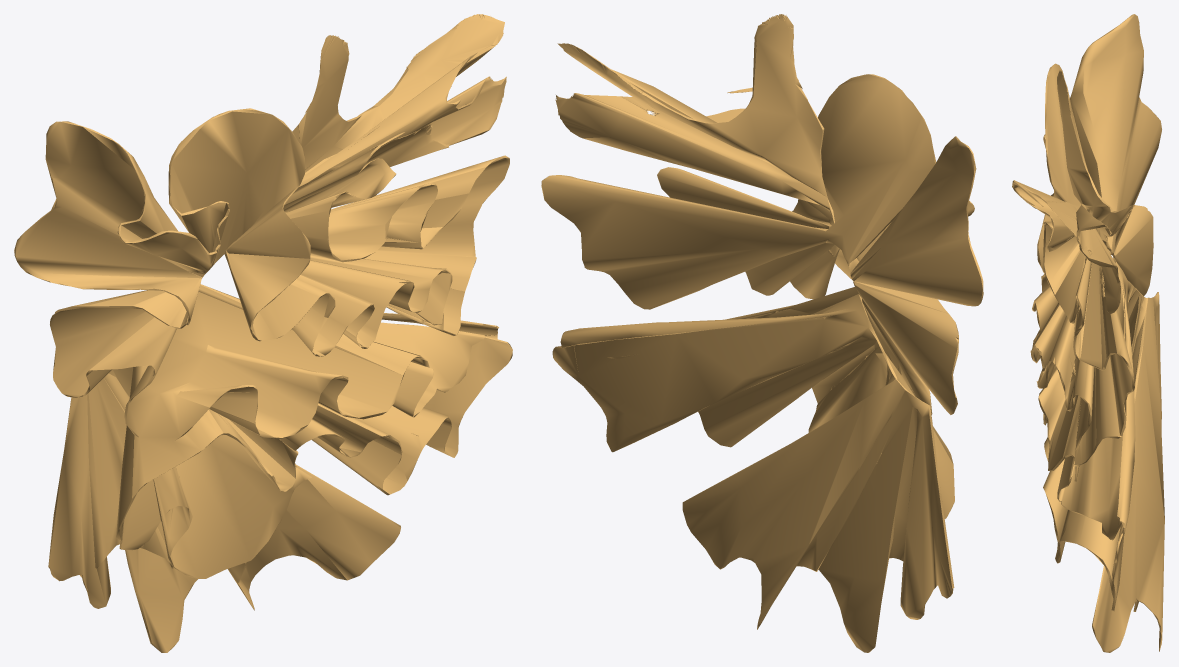
The model's file is mesenterio.glb.
3 views of the same model, side by side, from view 1: azimuth 30°, elevation 25°; view 2: azimuth 150°, elevation 25°; view 3: azimuth 270°, elevation 25° (orthographic). The views are drawn at different scales.
Visible parts, largest first — view 1: mesenterio; view 2: mesenterio; view 3: mesenterio.
Part boxes in pixels (x1,y1,x2,y2): mesenterio: (14, 14, 512, 652); mesenterio: (541, 14, 983, 652); mesenterio: (1012, 14, 1164, 652).
Size of the model in its own units: 0.1723 by 0.2105 by 0.0486.
